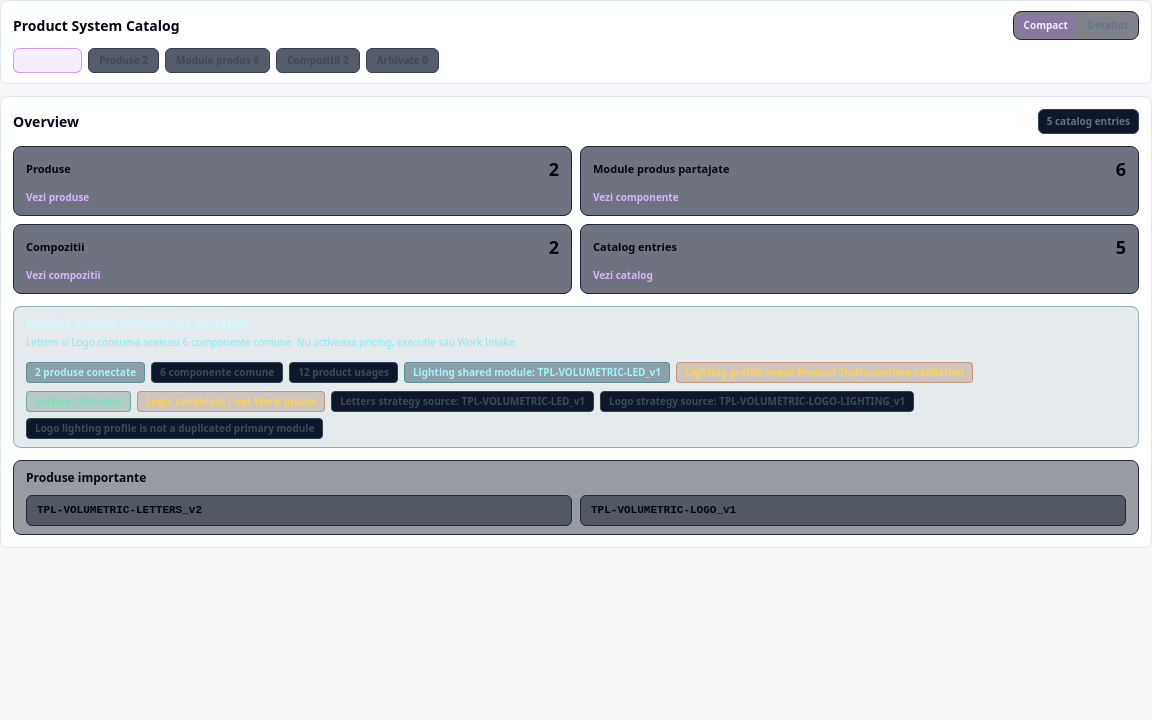
Test: TemplateLibraryView scalable Product System navigation › keeps Components compact dense and adds owner details only in detailed density
This screenshot has width=1152, height=720.
What coordinates should you click on to do the following:
click the tab "Module produs 6"
I would click on:
 (218, 60)
Its box is [165,48,270,73].
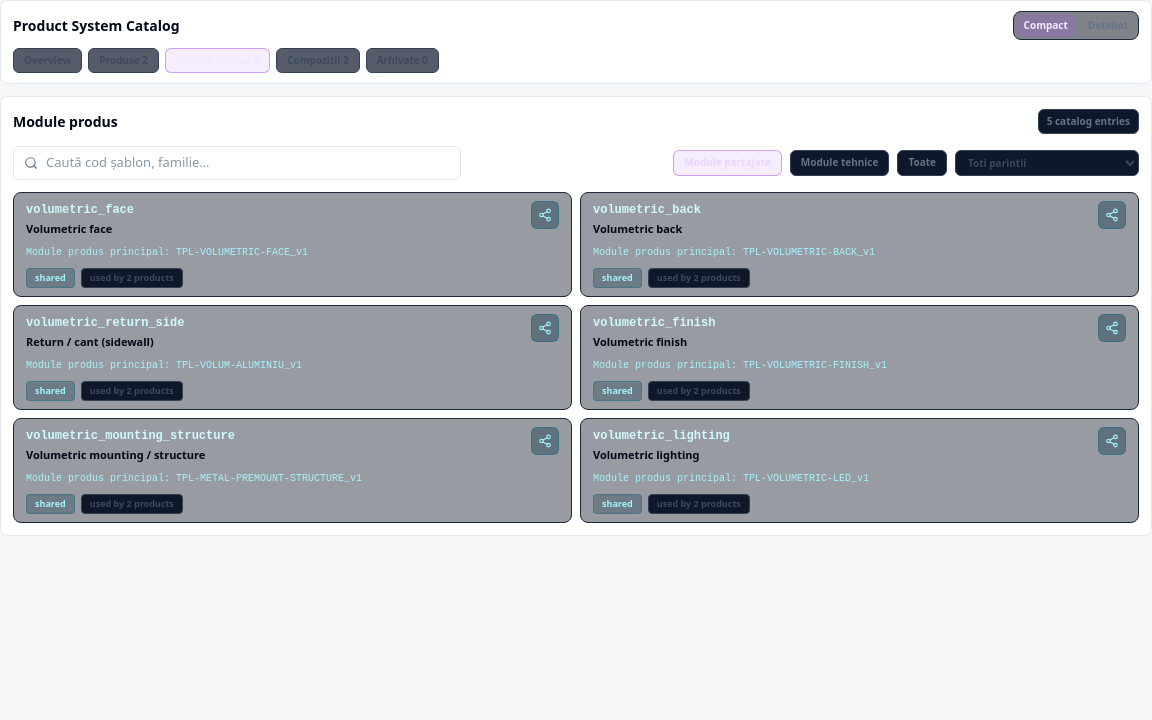
Expected: the element with test id "product-system-shared-contract-row-volumetric_lighting" does not show "PARTIAL", [580,418,1139,522]
Expected: the element with test id "product-system-shared-contract-row-volumetric_lighting" does not show "Logo lighting profile is strategy only", [580,418,1139,522]
What coordinates should you click on to do the following:
click the button with test id "product-system-density-detailed"
I would click on:
 (1108, 26)
Its box is [1080,14,1136,37].
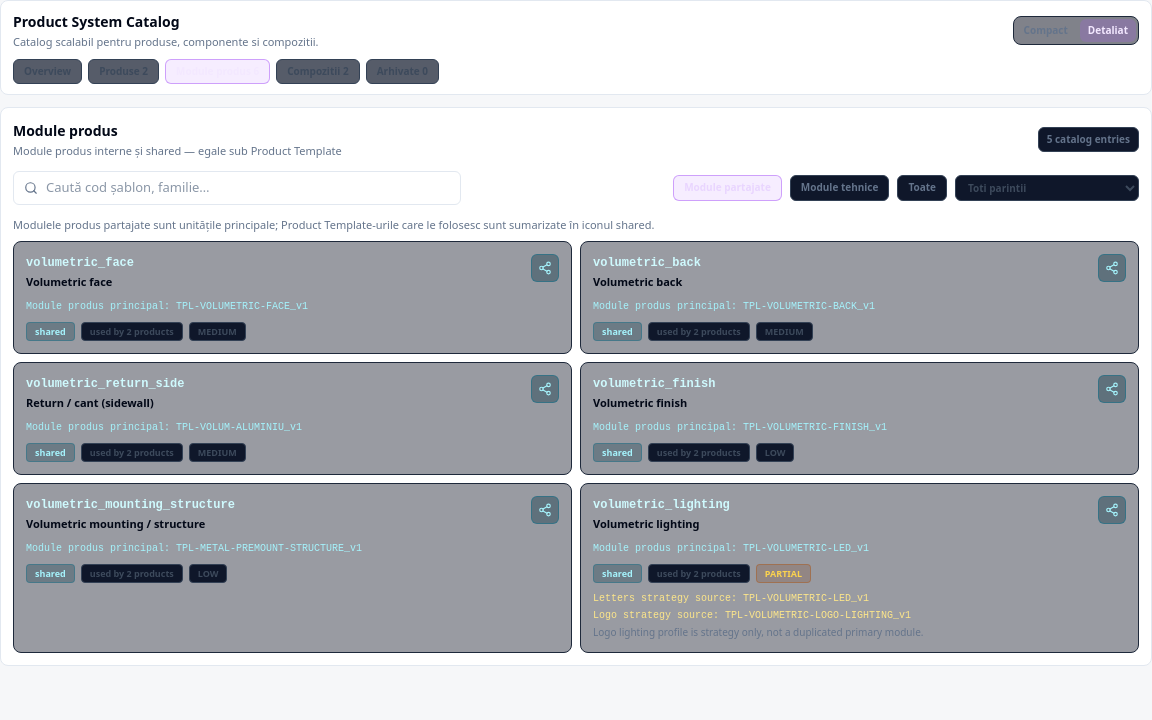
Now the text "Modulele produs partajate sunt unitățile principale; Product Template-urile care le folosesc sunt sumarizate în iconul s" is shown, box [13,216,654,232]
Now the element with test id "product-system-shared-contract-row-volumetric_lighting" shows "PARTIAL", box [765,566,802,580]
Now the element with test id "product-system-shared-contract-row-volumetric_lighting" shows "Letters strategy source: TPL-VOLUMETRIC-LED_v1", box [580,483,1139,653]
